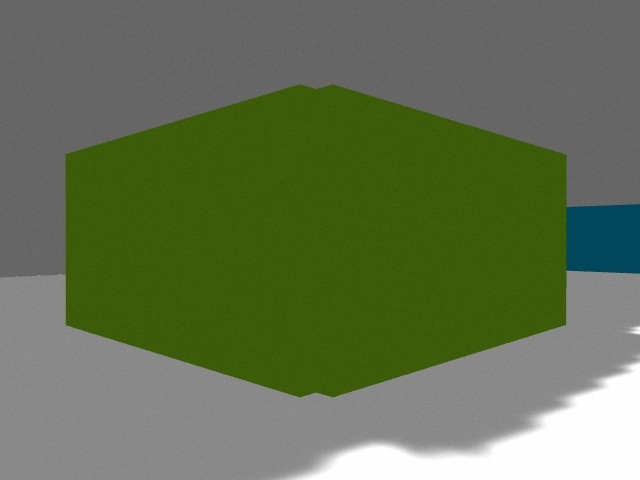blue_drop_zone: (567, 204, 640, 274)
green_drop_zone: (65, 85, 567, 397)
